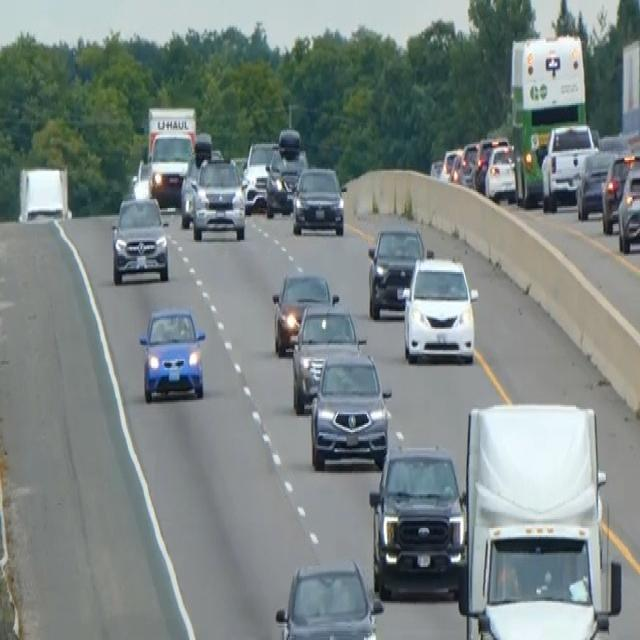bus: (508, 32, 588, 206)
car: (308, 347, 392, 471), (290, 295, 366, 413), (274, 556, 383, 638), (401, 252, 478, 364), (138, 304, 206, 402), (366, 222, 426, 318), (271, 268, 336, 356), (110, 192, 169, 284), (540, 121, 598, 210), (190, 154, 246, 242), (291, 164, 345, 236), (148, 128, 193, 204), (600, 149, 639, 233), (265, 146, 306, 217), (241, 138, 278, 212), (575, 148, 614, 218), (179, 146, 212, 226), (616, 162, 639, 252), (472, 135, 508, 192), (484, 142, 517, 203), (458, 138, 480, 186), (440, 146, 462, 183)
jeep: (368, 441, 467, 601)
lorry: (457, 398, 622, 638)
